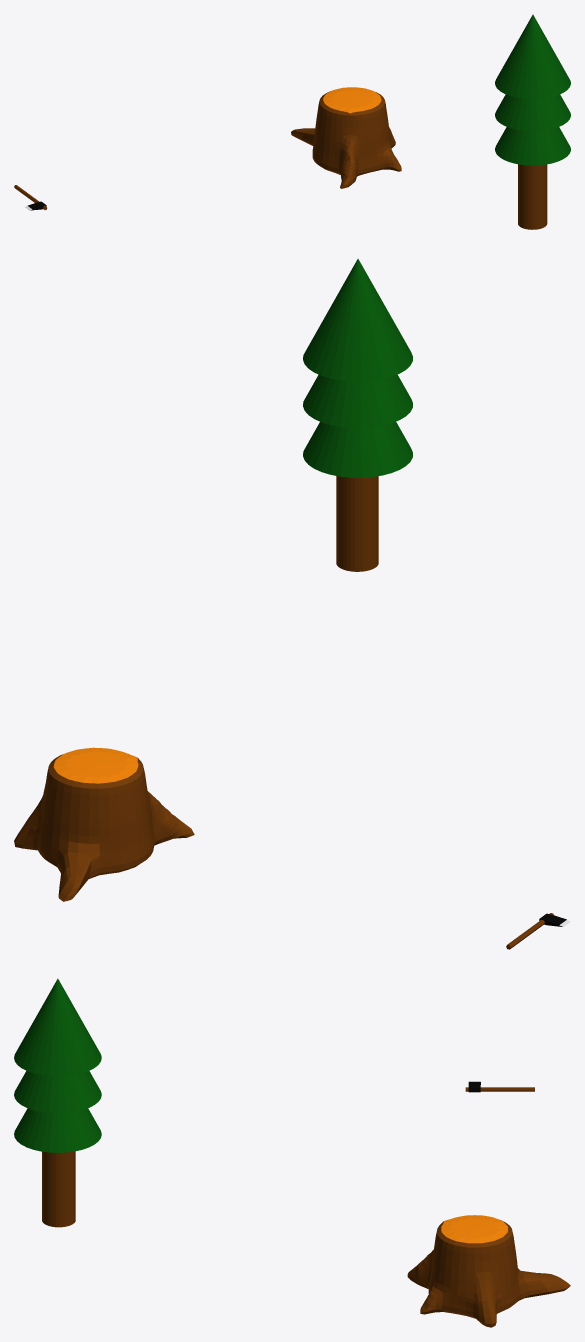
Rendered from tree stump .fbx.
3 views of the same model, one above another, from view 1: azimuth 30°, elevation 25°; view 2: azimuth 150°, elevation 25°; view 3: azimuth 270°, elevation 25° (orthographic). The views are drawn at different scales.
Parts seen in each view (by area): view 1: Cylinder.001, Cylinder; view 2: Cylinder.001, Cylinder; view 3: Cylinder.001, Cylinder.
Part boxes in pixels (x1=…): Cylinder.001: x1=495, y1=14, x2=570, y2=229; Cylinder: x1=291, y1=87, x2=401, y2=188; Cylinder.001: x1=303, y1=259, x2=412, y2=571; Cylinder: x1=14, y1=747, x2=194, y2=901; Cylinder.001: x1=14, y1=978, x2=101, y2=1227; Cylinder: x1=407, y1=1215, x2=570, y2=1327.
Size of the model in its own units: 4474 by 3199 by 5002.
